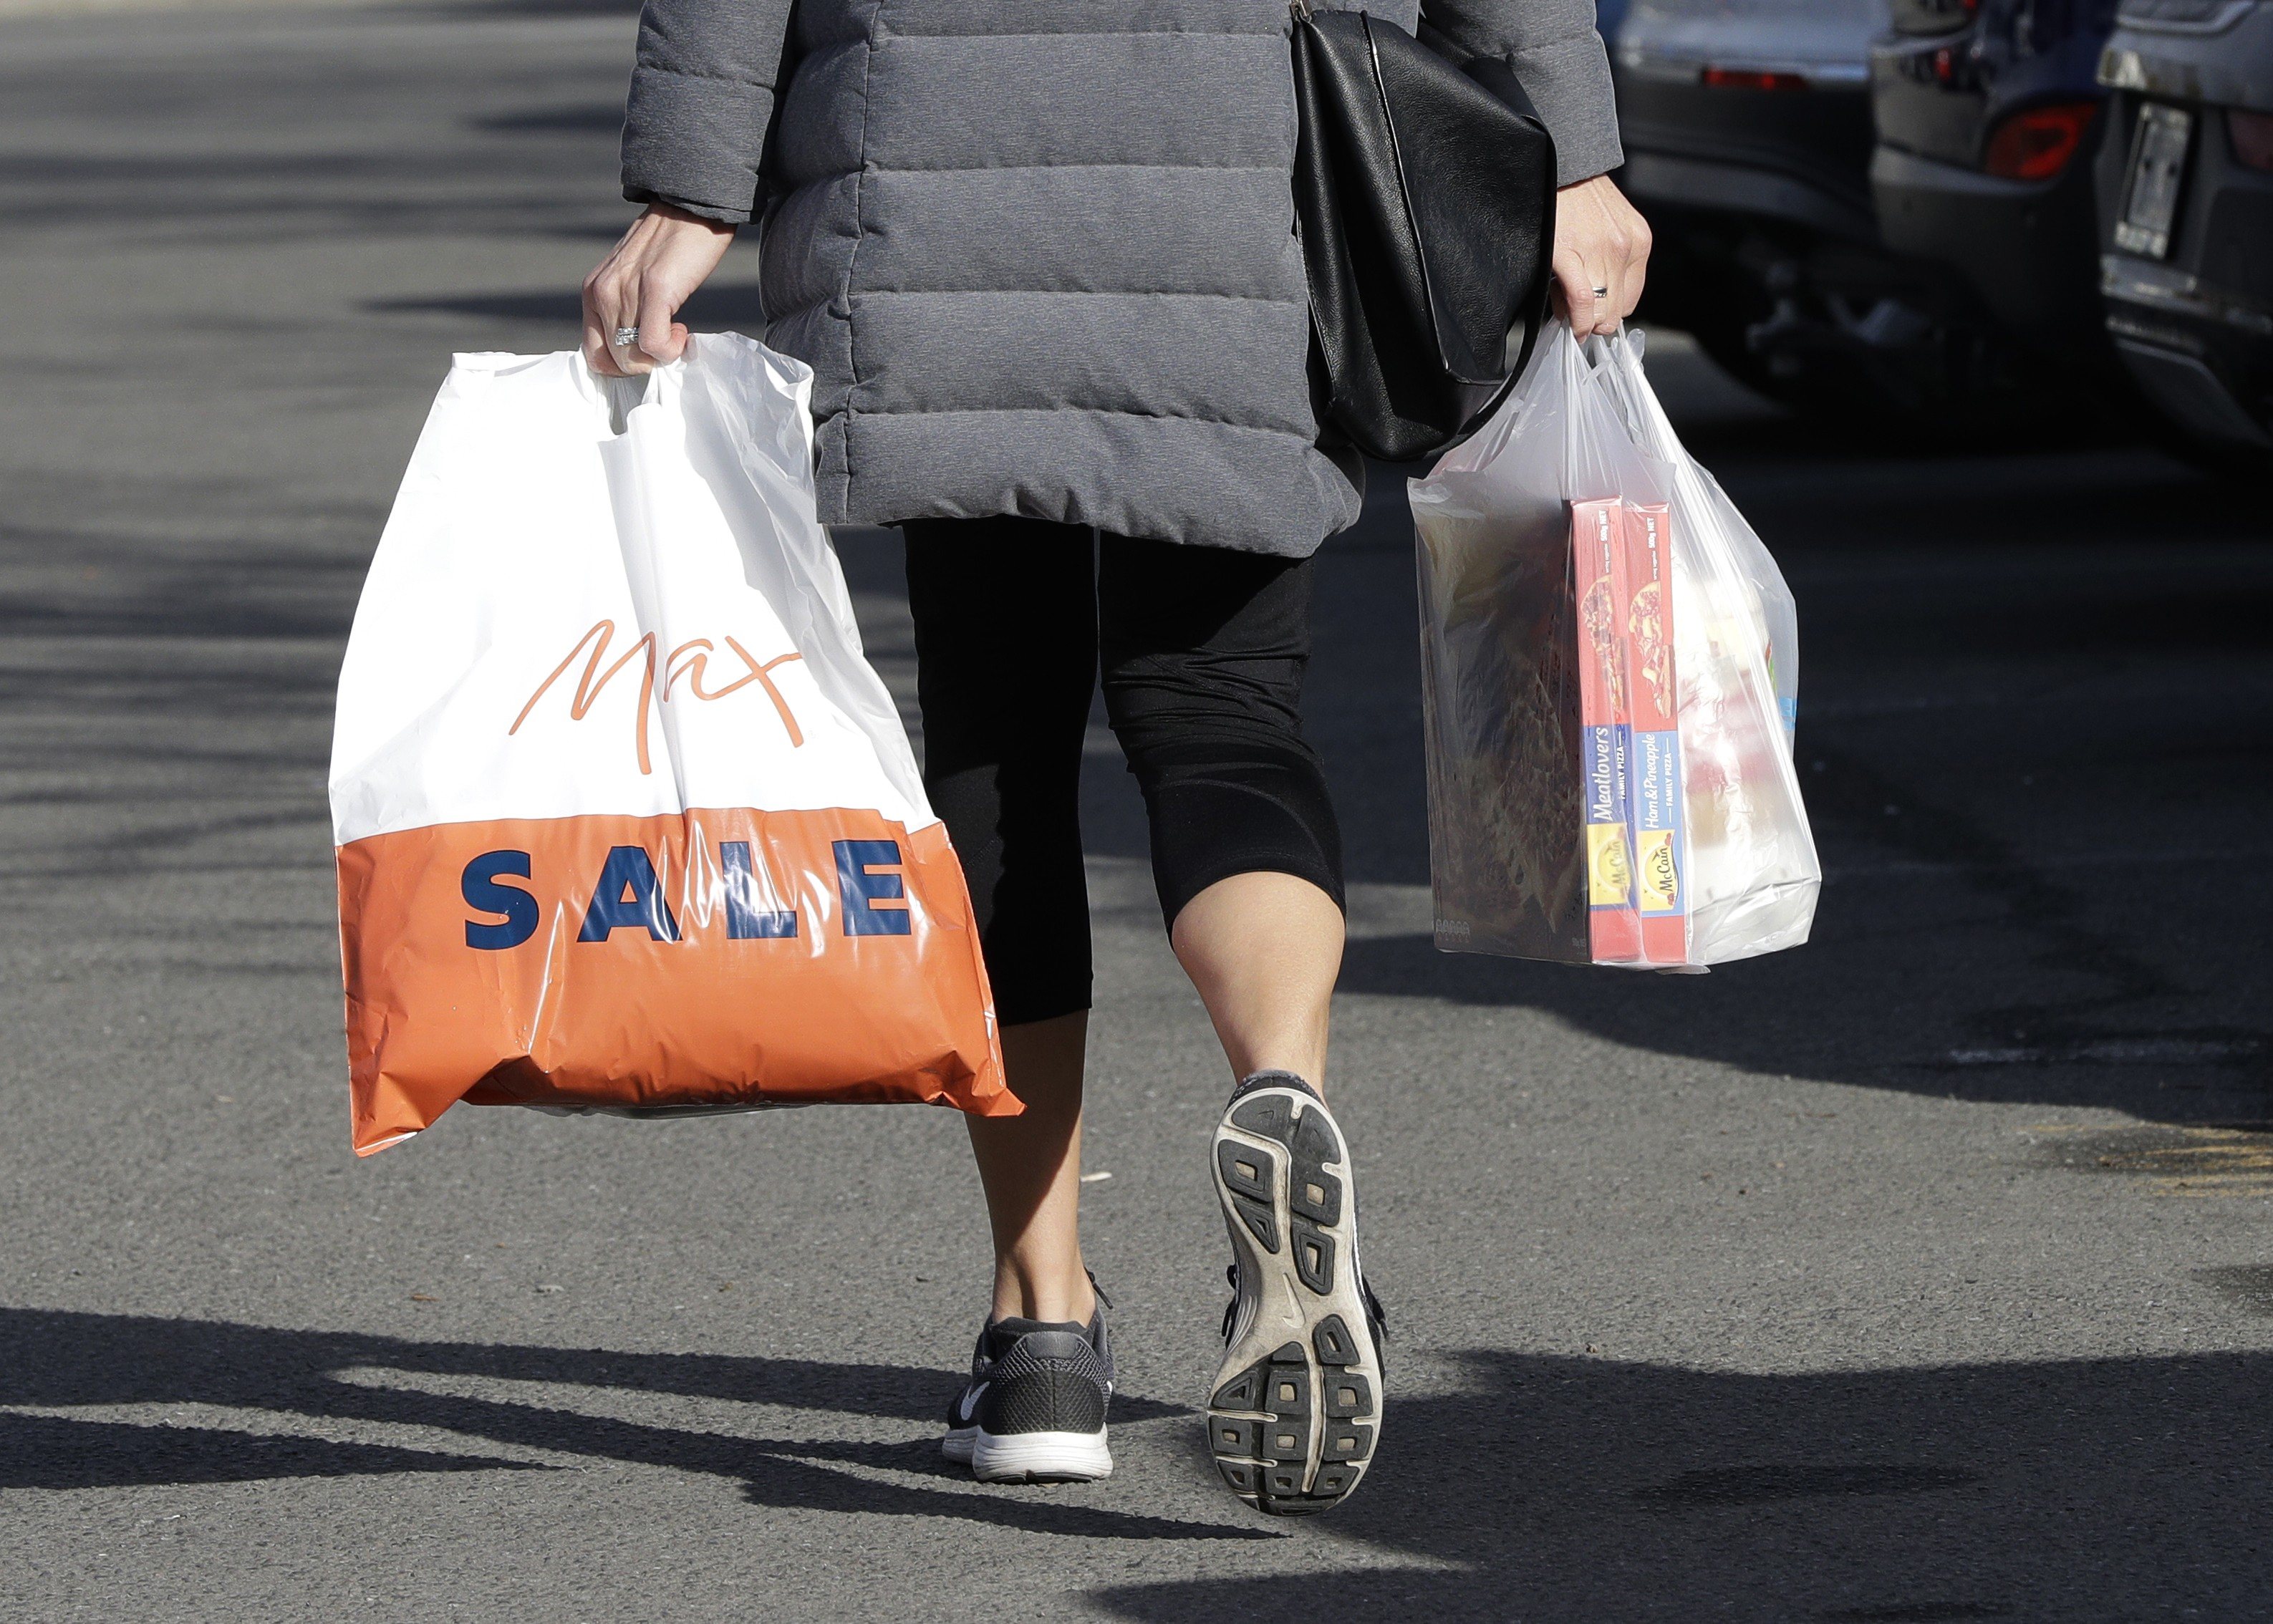plastic_bagwdw: (192, 213, 1143, 1267), (1229, 134, 2002, 1116)
